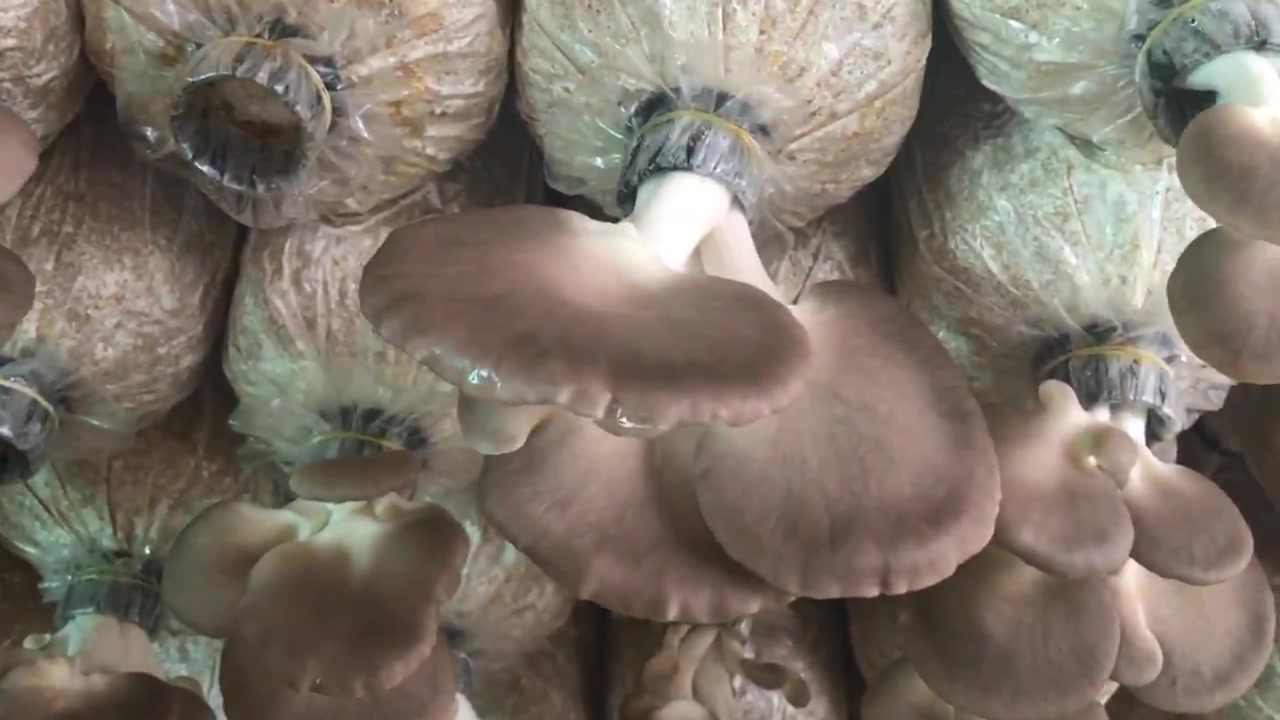nam: (361, 113, 1000, 617), (913, 350, 1273, 720), (160, 441, 469, 719), (1134, 5, 1280, 384), (4, 582, 208, 720), (620, 619, 809, 716), (1, 109, 40, 201), (1, 248, 29, 345)
